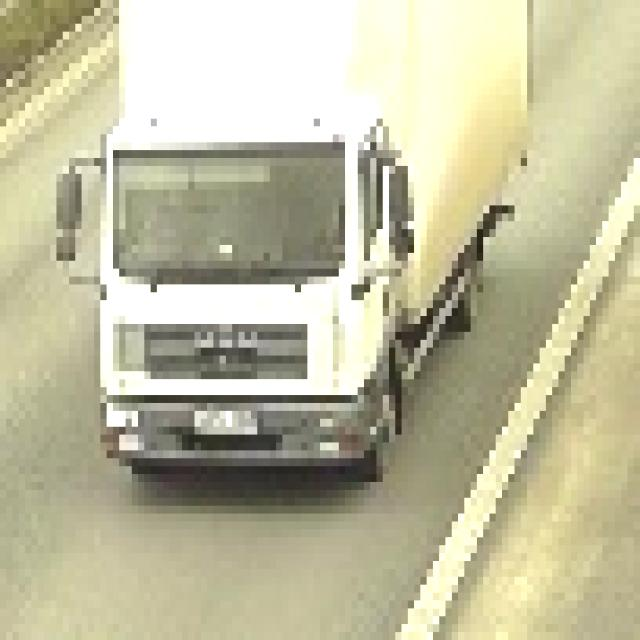truck: (51, 1, 528, 483)
